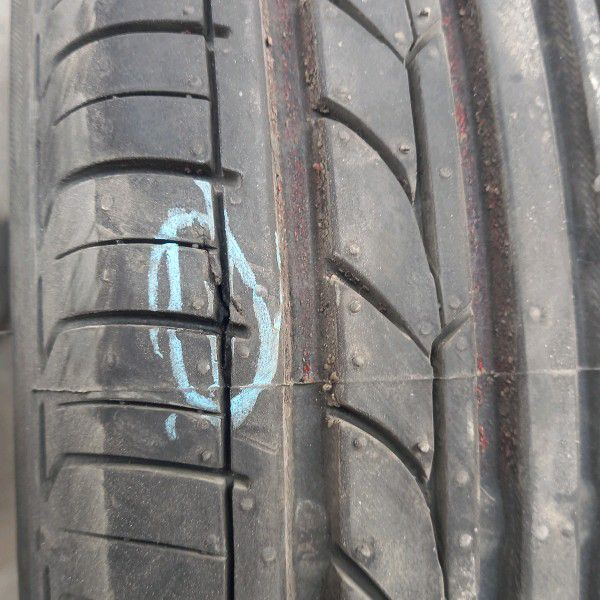tr: (202, 234, 235, 366)
